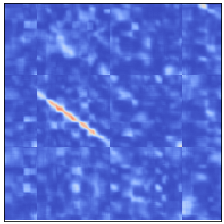action_path: (34, 75, 108, 149)
